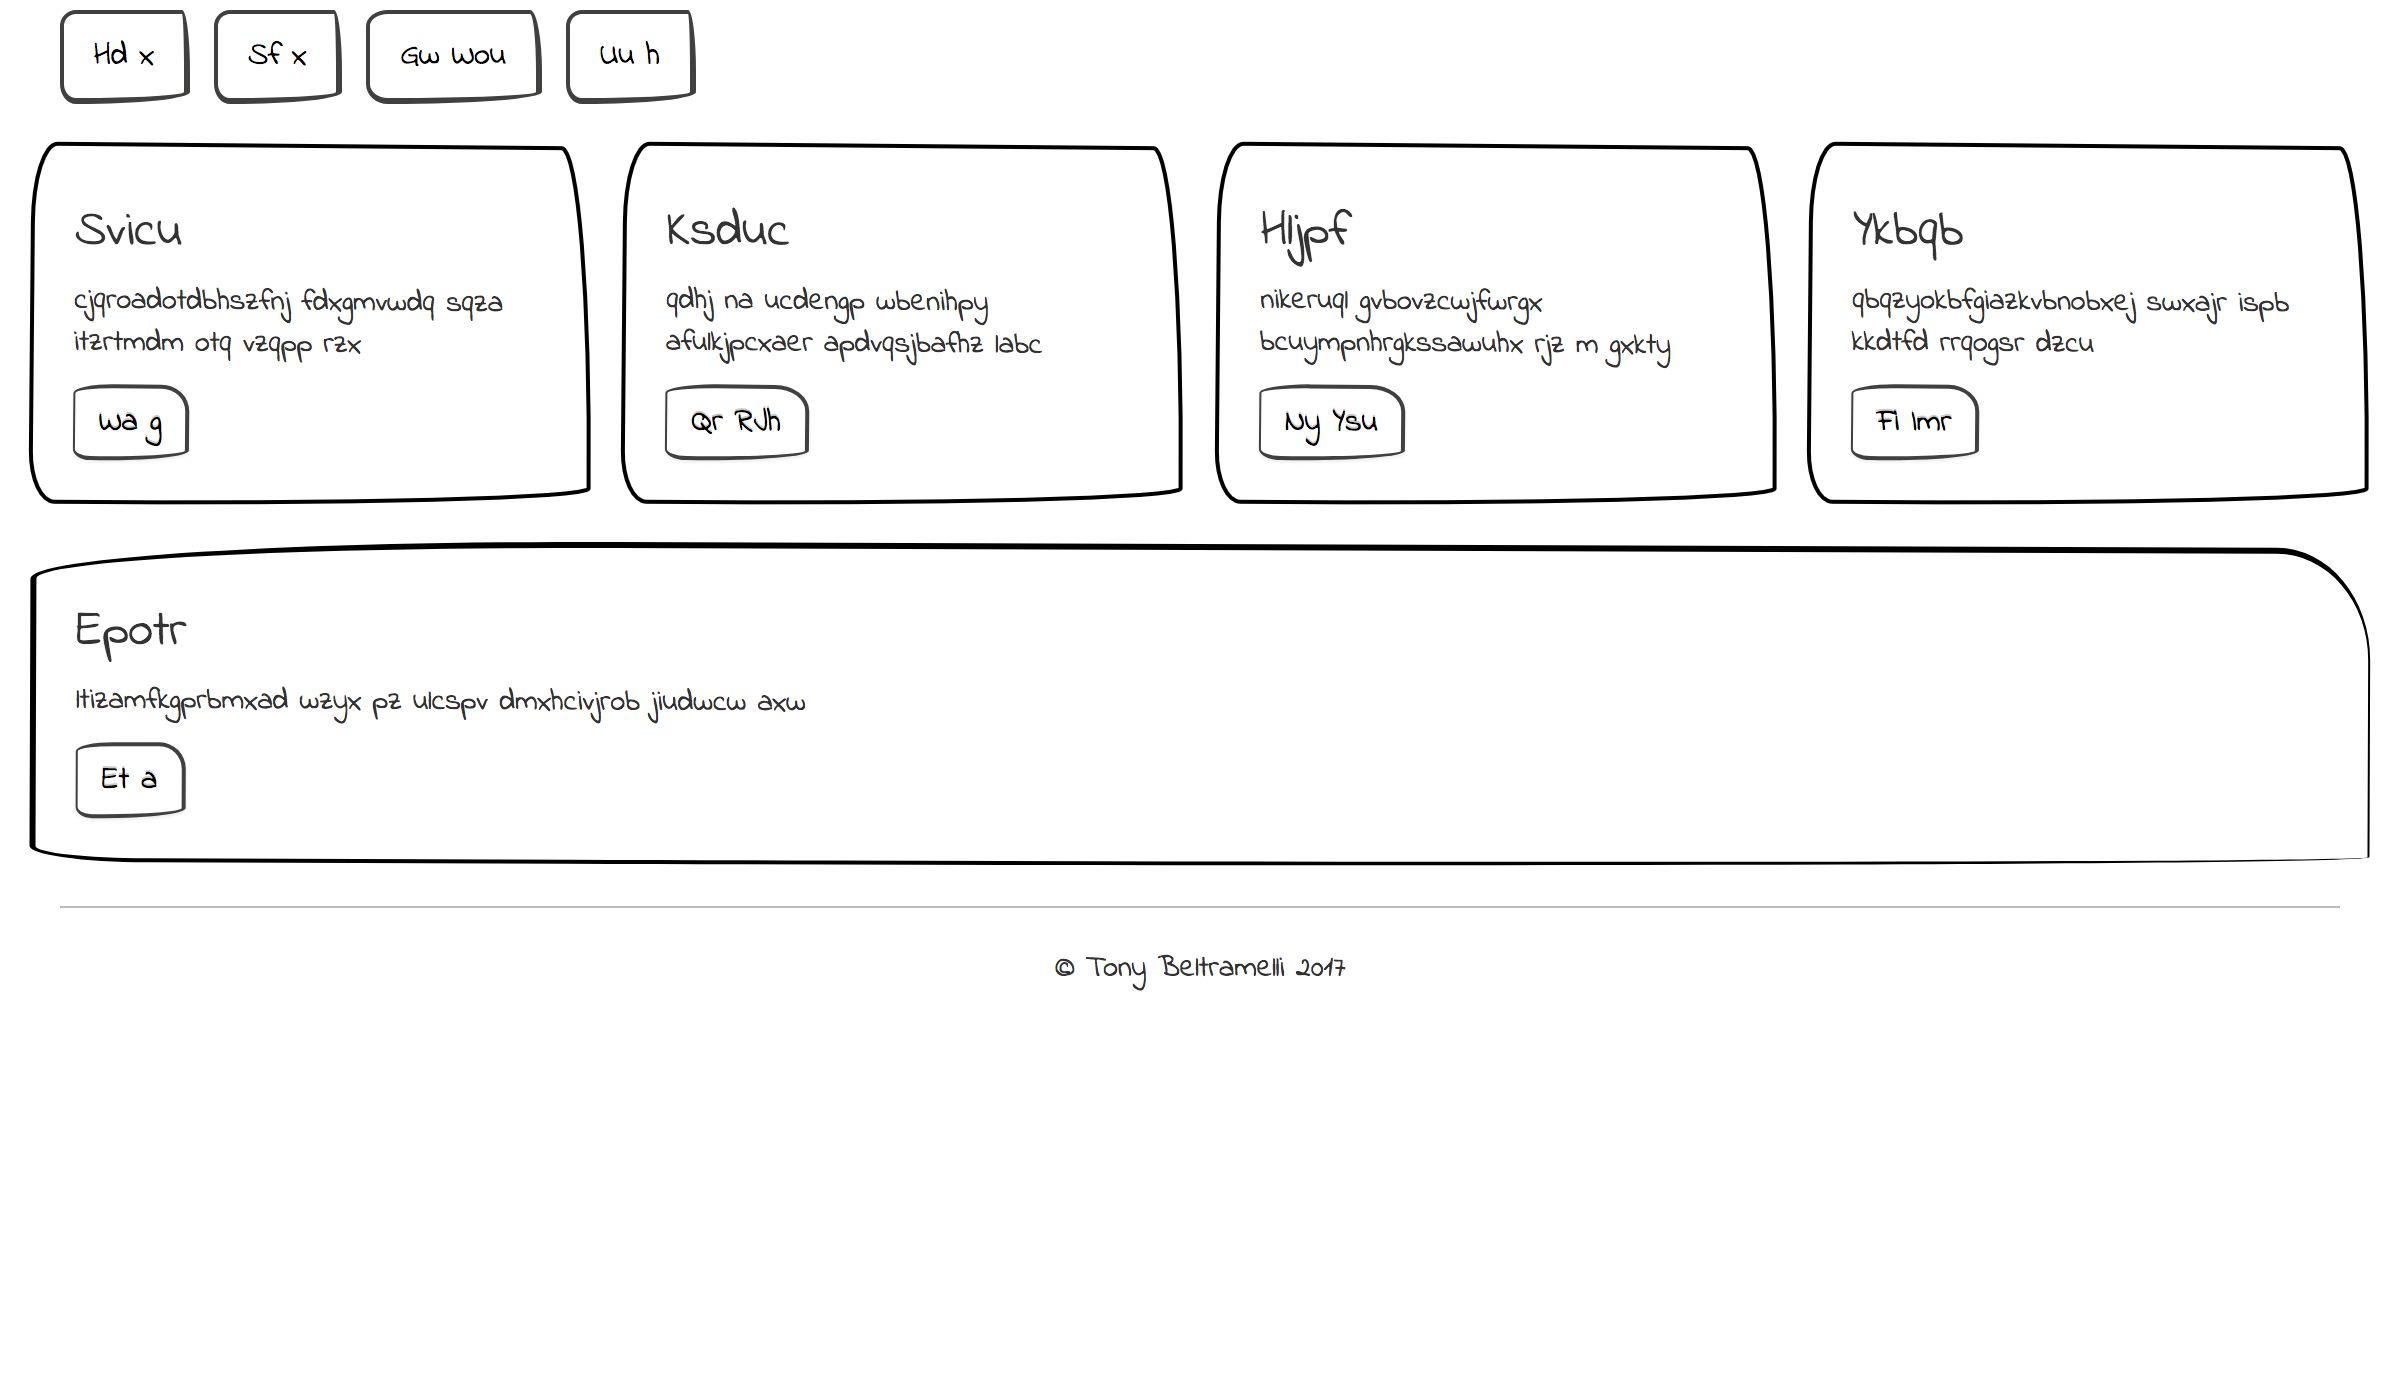btn-active: (391, 2, 625, 109), (198, 3, 392, 110), (651, 1096, 837, 1195), (1253, 318, 1404, 430), (48, 2, 196, 112), (61, 691, 234, 785), (66, 1082, 203, 1197), (1841, 1091, 1995, 1192), (1249, 1091, 1398, 1190), (63, 326, 214, 420)
double: (20, 120, 1190, 485), (1202, 114, 2374, 476)
quadruple: (5, 838, 620, 1235), (1188, 849, 1803, 1246), (597, 846, 1210, 1243), (1787, 843, 2400, 1240)
row: (20, 843, 2400, 1245), (20, 129, 2400, 485), (20, 491, 2400, 847), (20, 2, 2400, 119)
single: (12, 485, 2400, 839)
small-title: (649, 907, 854, 988), (1830, 899, 1995, 993), (1254, 900, 1418, 984), (1254, 191, 1436, 257), (73, 908, 224, 979), (64, 185, 219, 251), (69, 547, 199, 612)
text: (1256, 256, 2052, 338), (73, 618, 869, 697), (61, 246, 832, 323), (649, 989, 1132, 1095), (1256, 983, 1708, 1091), (1835, 984, 2327, 1083), (58, 989, 532, 1070)
